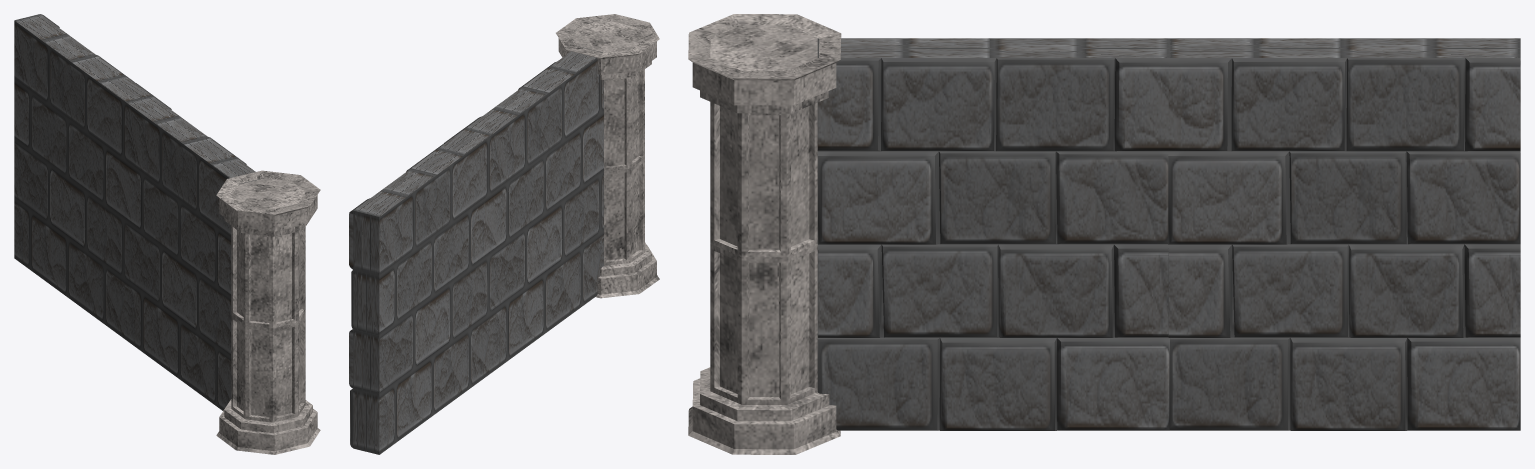
File: wallMedium.fbx
The picture shows the model from 3 angles, left to right: view 1: azimuth 30°, elevation 25°; view 2: azimuth 150°, elevation 25°; view 3: azimuth 270°, elevation 25°; orthographic projection. The views are drawn at different scales.
Parts seen in each view (by area): view 1: wallMedium, Pillar; view 2: wallMedium, Pillar; view 3: wallMedium, Pillar.
Part boxes in pixels (bbox=[...]): wallMedium: bbox=[14, 14, 263, 410]; Pillar: bbox=[216, 170, 320, 454]; wallMedium: bbox=[349, 46, 603, 454]; Pillar: bbox=[556, 14, 659, 298]; wallMedium: bbox=[817, 38, 1520, 430]; Pillar: bbox=[688, 14, 841, 454].
Bounding box in the file's own units: 130 × 353 × 708.
Materials: 2 (2 with a texture image).
